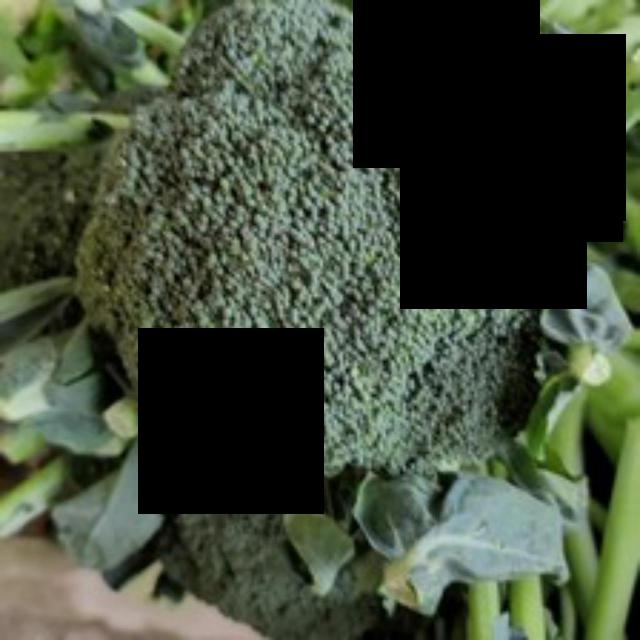broccoli: (80, 0, 558, 494)
